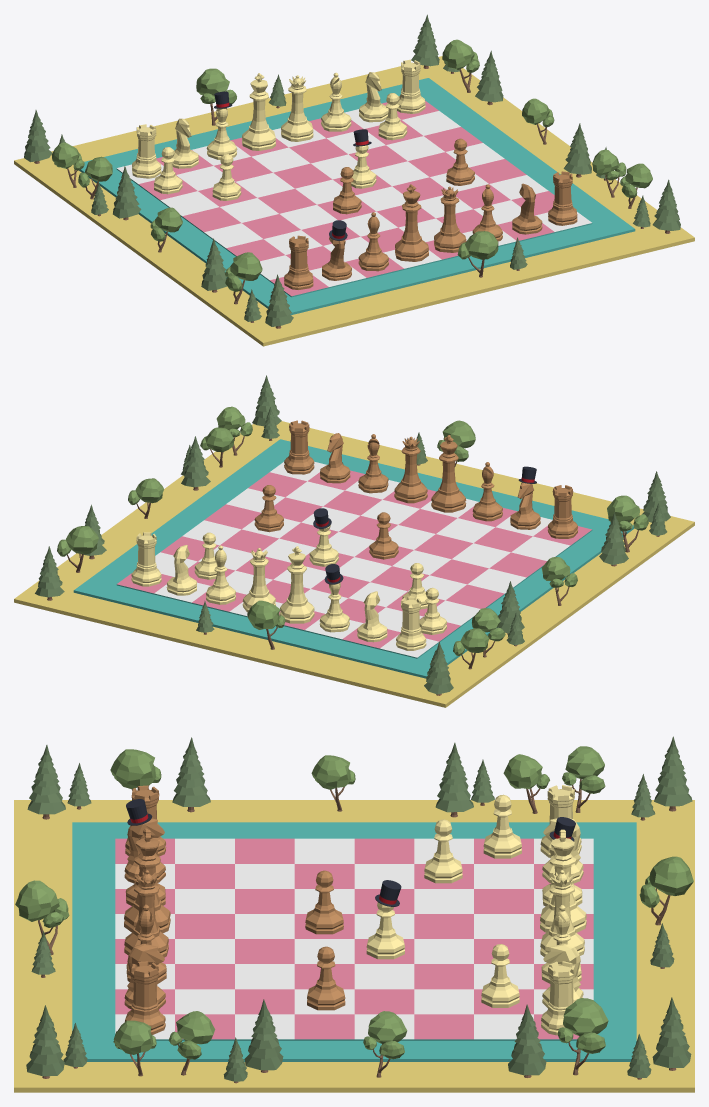
Rendered from D4_Giant_chess.fbx.
3 renders of one model, top to bottom at view 1: azimuth 30°, elevation 25°; view 2: azimuth 150°, elevation 25°; view 3: azimuth 270°, elevation 25°, orthographic. The views are drawn at different scales.
Visible parts, largest first — view 1: Cube.131, Cube.129, uploads_files_2063903_chessPieces.013, uploads_files_2063903_chessPieces.001, uploads_files_2063903_chessPieces.002, uploads_files_2063903_chessPieces.014, uploads_files_2063903_chessPieces.017, uploads_files_2063903_chessPieces.005, uploads_files_2063903_chessPieces.016, uploads_files_2063903_chessPieces.007, Tree_stem_01.104, Tree_stem_01.109 (+30 smaller); view 2: Cube.131, Cube.129, uploads_files_2063903_chessPieces.013, uploads_files_2063903_chessPieces.001, uploads_files_2063903_chessPieces.014, uploads_files_2063903_chessPieces.017, uploads_files_2063903_chessPieces.007, uploads_files_2063903_chessPieces.005, uploads_files_2063903_chessPieces.016, Tree_stem_01.104, Tree_stem_01.109, uploads_files_2063903_chessPieces.002 (+29 smaller); view 3: Cube.131, Cube.129, Tree_stem_01.109, Tree_stem_01.110, Tree_stem_01.105, uploads_files_2063903_chessPieces.017, uploads_files_2063903_chessPieces.007, Tree_stem_01.101, Pine_Trees_Pack_Tree_stem_01.077, Pine_Trees_Pack_Tree_stem_01.078, Pine_Trees_Pack_Tree_stem_01.080, Tree_stem_01.108 (+36 smaller).
Part boxes in pixels (box(x1,y1,x2,y2)): Cube.131: box(79, 78, 635, 315); Cube.129: box(14, 56, 694, 346); uploads_files_2063903_chessPieces.013: box(395, 184, 428, 261); uploads_files_2063903_chessPieces.001: box(242, 73, 275, 150); uploads_files_2063903_chessPieces.002: box(281, 75, 313, 141); uploads_files_2063903_chessPieces.014: box(434, 186, 466, 252); uploads_files_2063903_chessPieces.017: box(548, 171, 577, 225); uploads_files_2063903_chessPieces.005: box(132, 124, 161, 178); uploads_files_2063903_chessPieces.016: box(284, 235, 313, 289); uploads_files_2063903_chessPieces.007: box(397, 59, 425, 113); Tree_stem_01.104: box(225, 252, 262, 304); Tree_stem_01.109: box(442, 39, 479, 92); Cube.131: box(73, 439, 634, 678); Cube.129: box(14, 421, 694, 707); uploads_files_2063903_chessPieces.013: box(431, 435, 466, 512); uploads_files_2063903_chessPieces.001: box(279, 546, 314, 623); uploads_files_2063903_chessPieces.014: box(394, 436, 427, 503); uploads_files_2063903_chessPieces.017: box(284, 420, 314, 474); uploads_files_2063903_chessPieces.007: box(131, 532, 161, 586); uploads_files_2063903_chessPieces.005: box(396, 596, 426, 650); uploads_files_2063903_chessPieces.016: box(547, 485, 577, 538); Tree_stem_01.104: box(607, 495, 648, 552); Tree_stem_01.109: box(57, 525, 98, 572); uploads_files_2063903_chessPieces.002: box(242, 548, 275, 612); Cube.131: box(72, 822, 636, 1061); Cube.129: box(14, 800, 694, 1092); Tree_stem_01.109: box(557, 998, 608, 1075); Tree_stem_01.110: box(639, 856, 693, 925); Tree_stem_01.105: box(15, 880, 69, 955); uploads_files_2063903_chessPieces.017: box(125, 961, 165, 1034); uploads_files_2063903_chessPieces.007: box(541, 961, 575, 1035); Tree_stem_01.101: box(562, 746, 605, 812); Pine_Trees_Pack_Tree_stem_01.077: box(244, 999, 283, 1072); Pine_Trees_Pack_Tree_stem_01.078: box(508, 1004, 546, 1077); Pine_Trees_Pack_Tree_stem_01.080: box(652, 997, 691, 1070); Tree_stem_01.108: box(363, 1011, 407, 1077).
Bounding box in the file's own units: 4010 × 689 × 4000.
6 materials, 2 textured.
